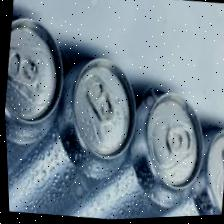metal: (19, 59, 143, 223), (90, 83, 210, 221), (0, 8, 76, 216), (176, 94, 224, 218)
